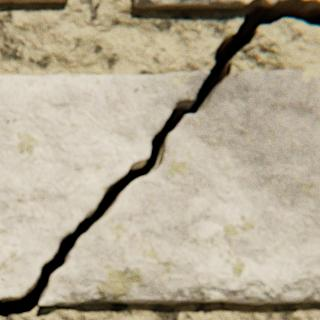brick: (0, 0, 68, 4)
broken_brick: (38, 71, 319, 305), (0, 72, 208, 299), (132, 0, 319, 10)
crack: (0, 2, 319, 318)
